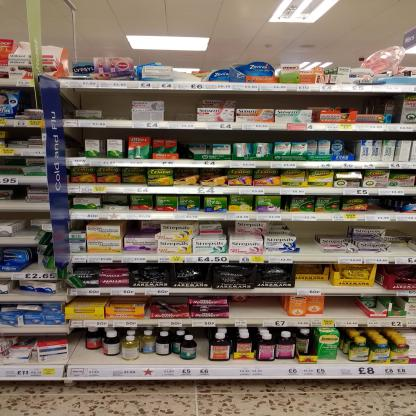Void: (241, 96, 301, 109), (327, 298, 363, 319), (233, 302, 281, 317), (170, 93, 196, 120), (106, 93, 131, 121), (298, 222, 317, 256), (74, 92, 102, 110), (66, 132, 86, 157), (125, 221, 153, 236), (317, 96, 357, 104), (16, 223, 37, 237), (326, 222, 344, 238), (388, 222, 411, 233), (78, 350, 106, 359), (297, 280, 328, 287)
